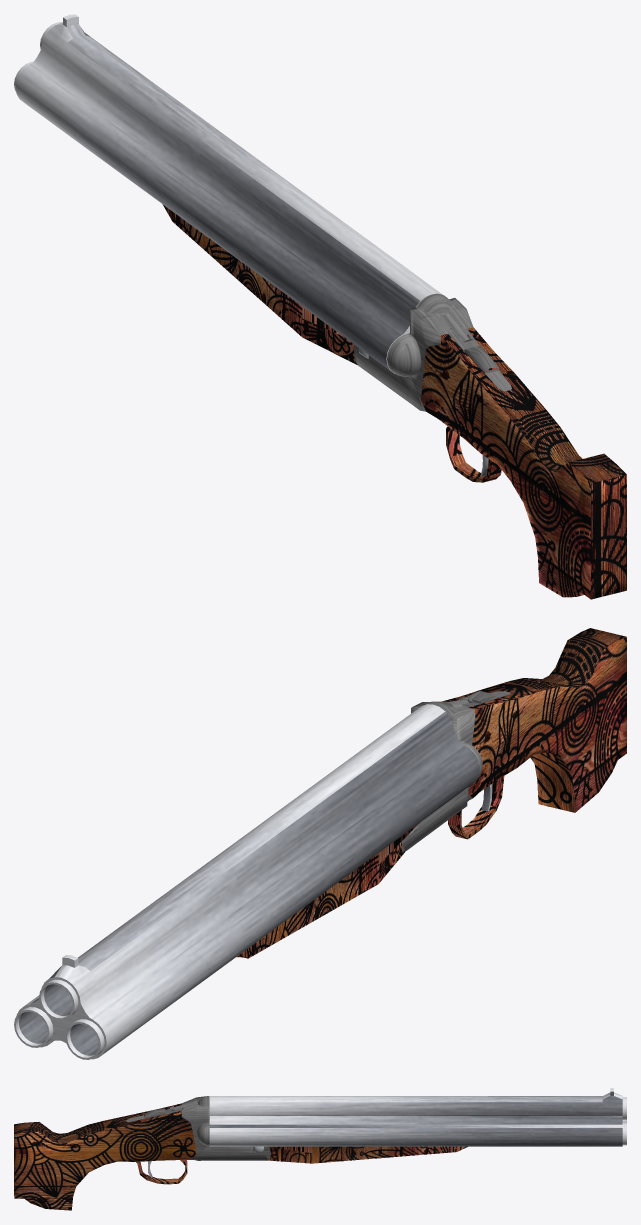
Rendered from shotgun.fbx.
3 renders of one model, top to bottom at view 1: azimuth 30°, elevation 25°; view 2: azimuth 150°, elevation 25°; view 3: azimuth 270°, elevation 25°, orthographic. The views are drawn at different scales.
Parts seen in each view (by area): view 1: polySurface3, polySurface6; view 2: polySurface3, polySurface6; view 3: polySurface3, polySurface6.
Boxes of the visible parts, <box> form: polySurface3: <box>14,14,442,373</box>; polySurface6: <box>354,293,626,599</box>; polySurface3: <box>14,704,479,1059</box>; polySurface6: <box>401,628,626,851</box>; polySurface3: <box>209,1088,626,1163</box>; polySurface6: <box>14,1096,270,1210</box>.
Bounding box in the file's own units: 2.08 × 4.56 × 21.87.
Materials: 6 (3 with a texture image).
